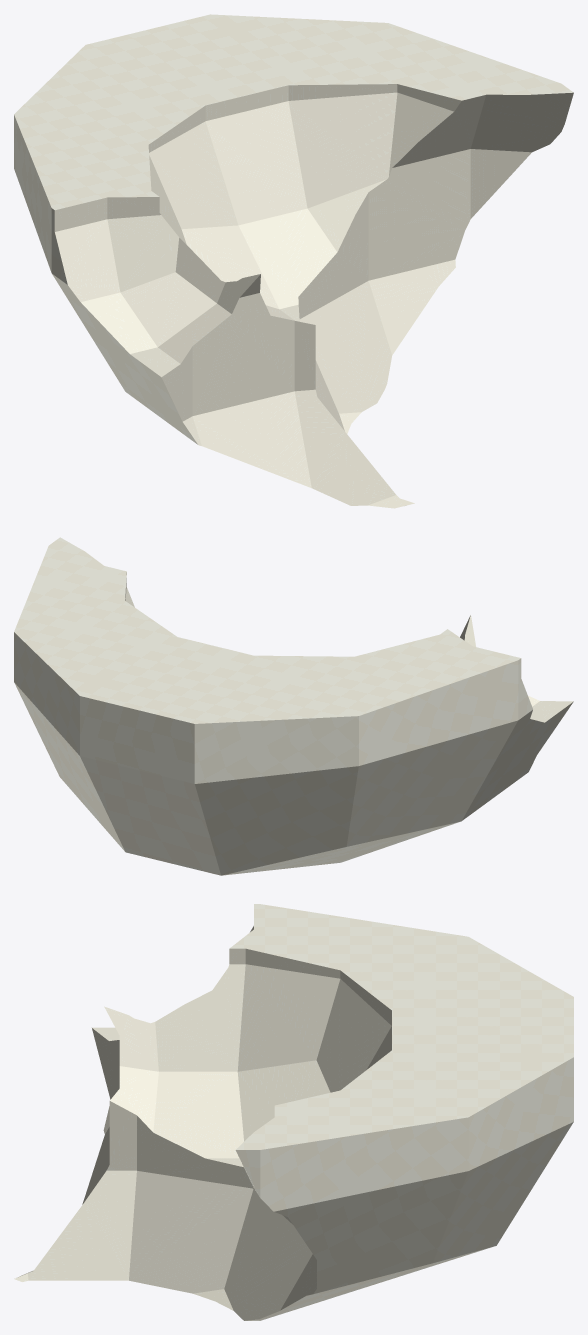
The model's file is egg_stage3.fbx.
3 renders of one model, top to bottom at view 1: azimuth 30°, elevation 25°; view 2: azimuth 150°, elevation 25°; view 3: azimuth 270°, elevation 25°, orthographic. The views are drawn at different scales.
Visible parts, largest first — view 1: Egg; view 2: Egg; view 3: Egg.
Boxes of the visible parts, left/top/right/bottom form: Egg: left=14, top=14, right=573, bottom=508; Egg: left=14, top=537, right=573, bottom=875; Egg: left=14, top=904, right=573, bottom=1320.
Bounding box in the file's own units: 1225 × 1179 × 613.
